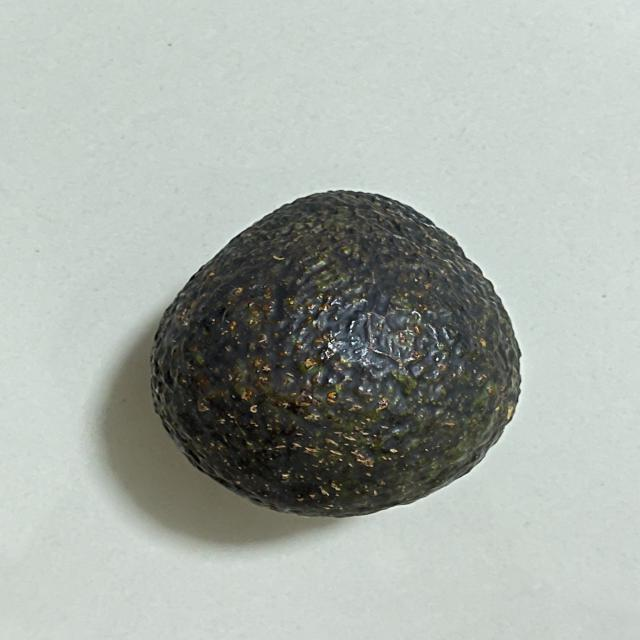Level1: (138, 179, 532, 530)
